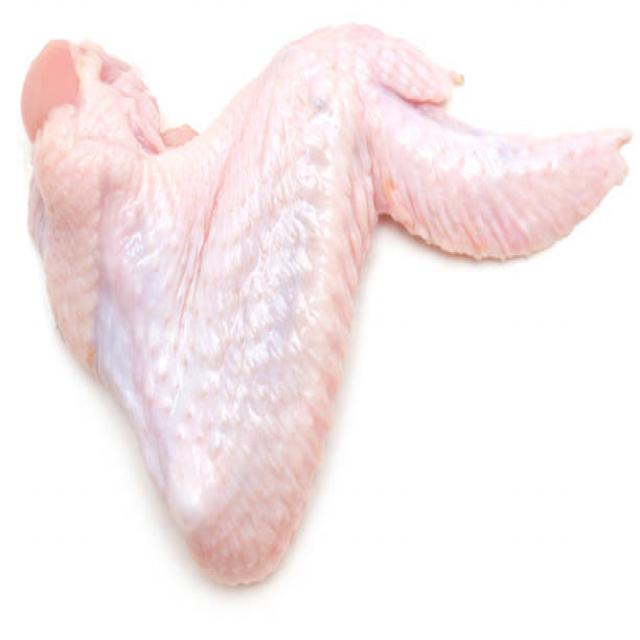Chicken Wing: (20, 16, 640, 594)
